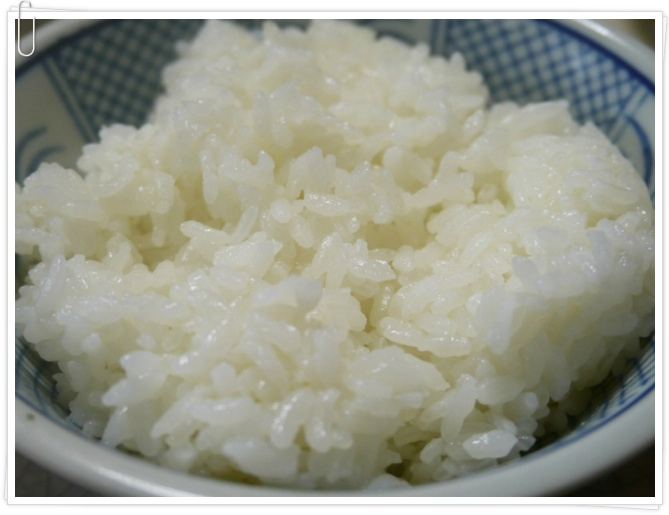ssalbab: (18, 23, 652, 487)
